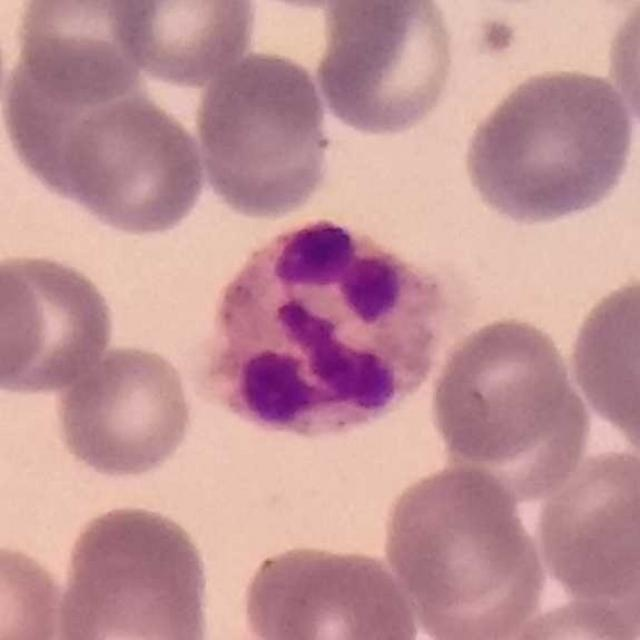Neutrophil: (194, 213, 454, 453)
RBC: (457, 62, 639, 230), (376, 460, 542, 626), (190, 47, 333, 218), (425, 313, 580, 466), (5, 35, 142, 204), (53, 498, 216, 640), (60, 90, 209, 239), (50, 339, 198, 482), (313, 0, 461, 139), (235, 538, 424, 640), (0, 246, 120, 401), (531, 443, 640, 604), (7, 0, 157, 105), (564, 272, 640, 456), (106, 0, 259, 87), (0, 252, 51, 398), (0, 536, 69, 640), (493, 595, 639, 640), (603, 0, 640, 144), (477, 13, 524, 59)
